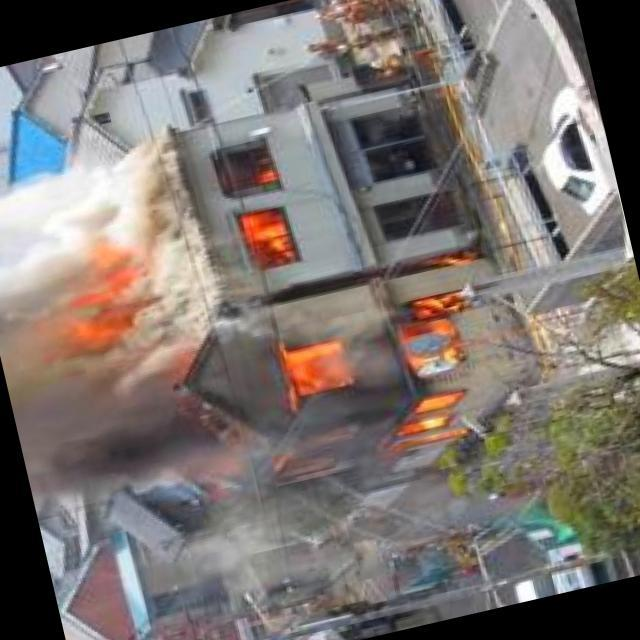Fire: (207, 280, 515, 488), (22, 238, 157, 367), (231, 141, 310, 266)
